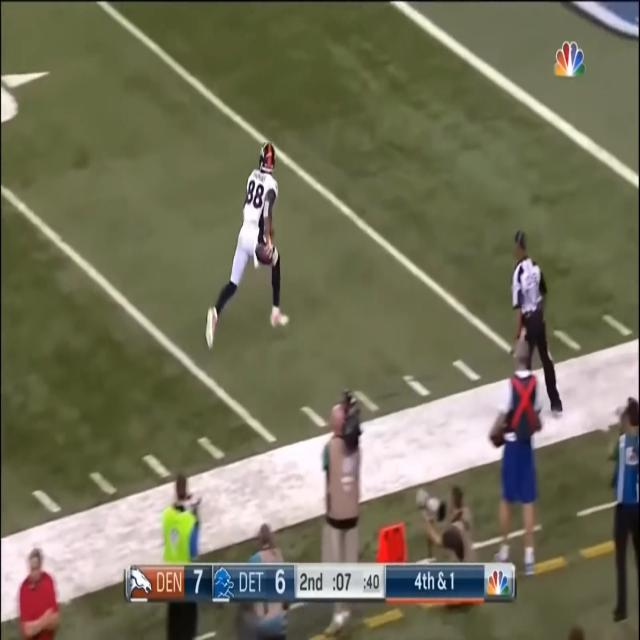football: (256, 237, 273, 271)
players: (202, 136, 294, 356)
